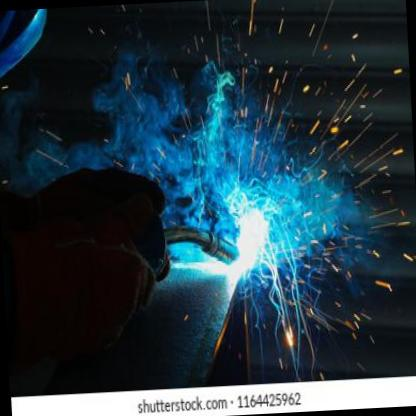Gloves: (0, 158, 178, 365)
